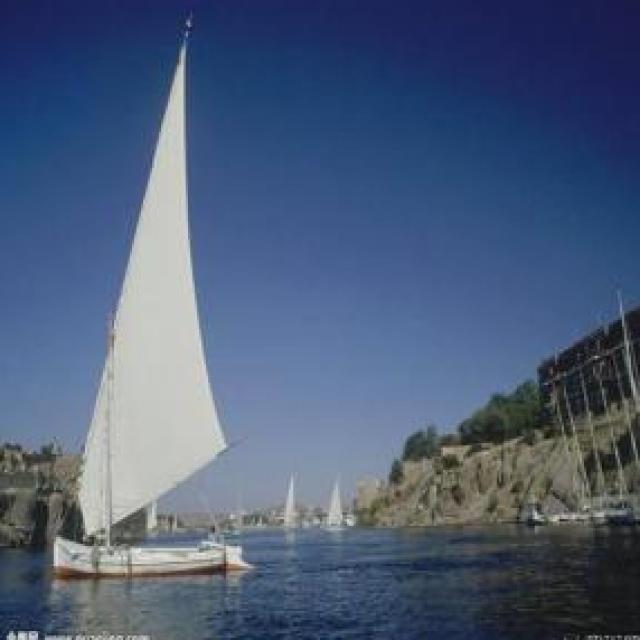sailboat: (46, 8, 233, 574), (274, 476, 306, 527), (320, 470, 346, 532)
